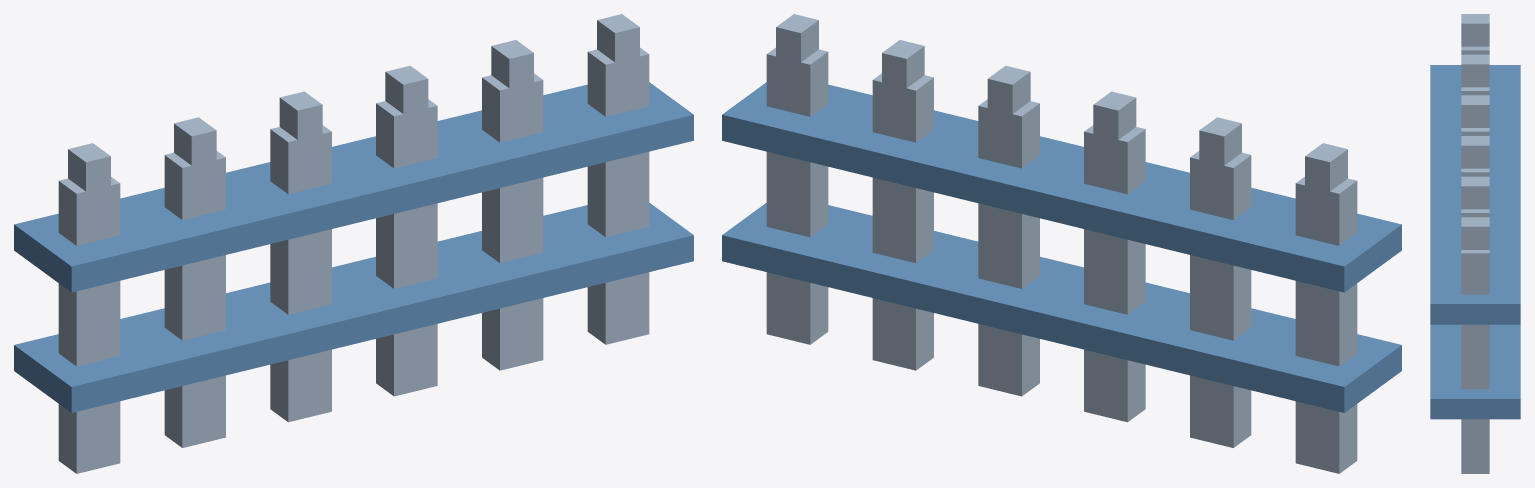
File: ncb-picket-blue.glb
3 renders of one model, left to right at view 1: azimuth 30°, elevation 25°; view 2: azimuth 150°, elevation 25°; view 3: azimuth 270°, elevation 25°, orthographic. The views are drawn at different scales.
Parts seen in each view (by area): view 1: box-prop; view 2: box-prop; view 3: box-prop.
Part boxes in pixels (<box>): box-prop: <box>14,14,693,473</box>; box-prop: <box>722,14,1401,473</box>; box-prop: <box>1430,14,1520,473</box>.
Size of the model in its own units: 2 by 0.95 by 0.32.
